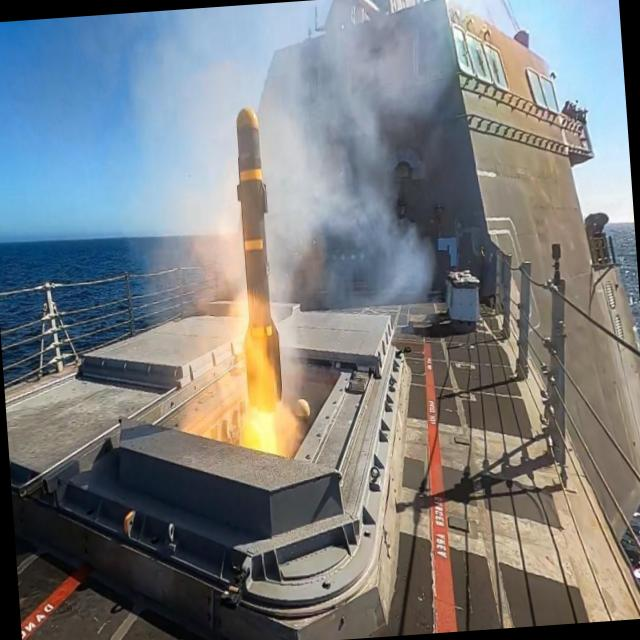rocket: (219, 88, 301, 444)
